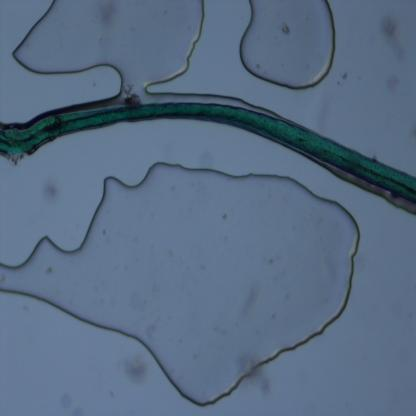Air bubble: (0, 158, 371, 406), (11, 0, 204, 88), (242, 1, 338, 91)
Background material: (379, 14, 409, 55), (242, 359, 275, 394), (116, 353, 152, 384), (96, 1, 122, 30), (39, 184, 62, 203)
Microfibre: (0, 98, 416, 217)
